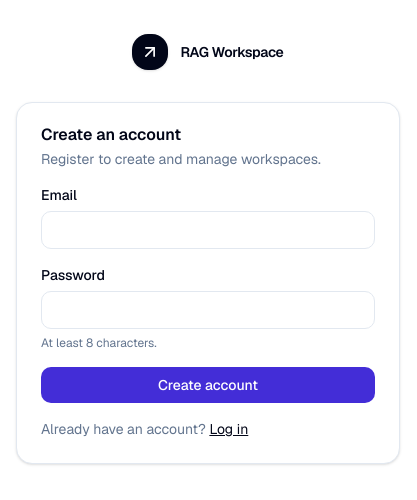
Test: RegisterPage › shows the server's error message when registration fails
Type "user@example.com" into the field labelled "Email".
click(208, 230); type("user@example.com")  # box [41,211,375,249]
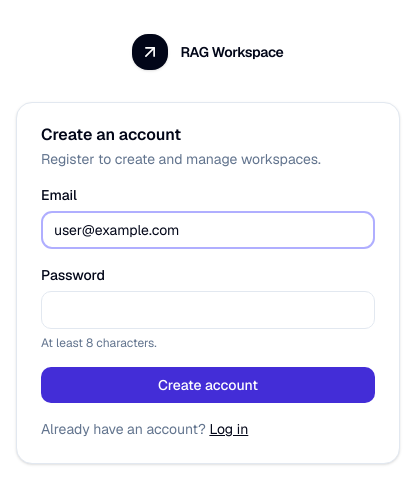
Type "a-fine-password" into the password field labelled "Password".
click(208, 310); type("a-fine-password")  # box [41,291,375,329]
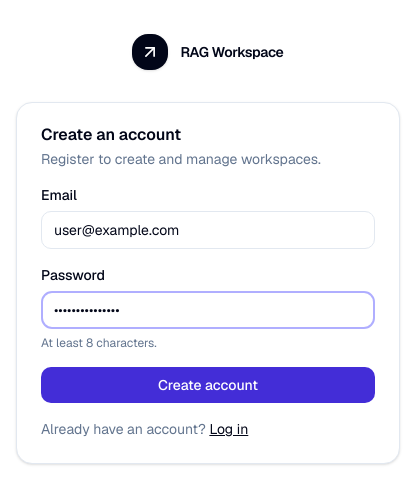
Click the button "Create account".
click(208, 385)  # box [41,367,375,403]
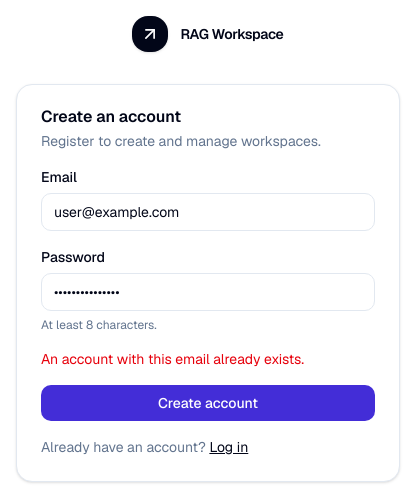
Expected: the text "An account with this email already exists." is shown, [41,350,304,368]
